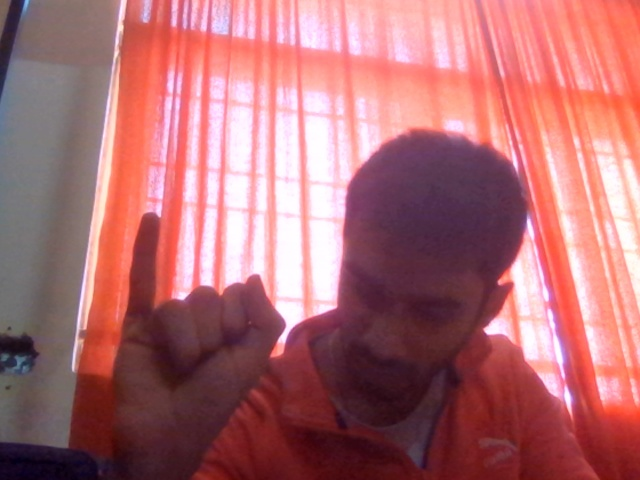I: (83, 198, 307, 480)
